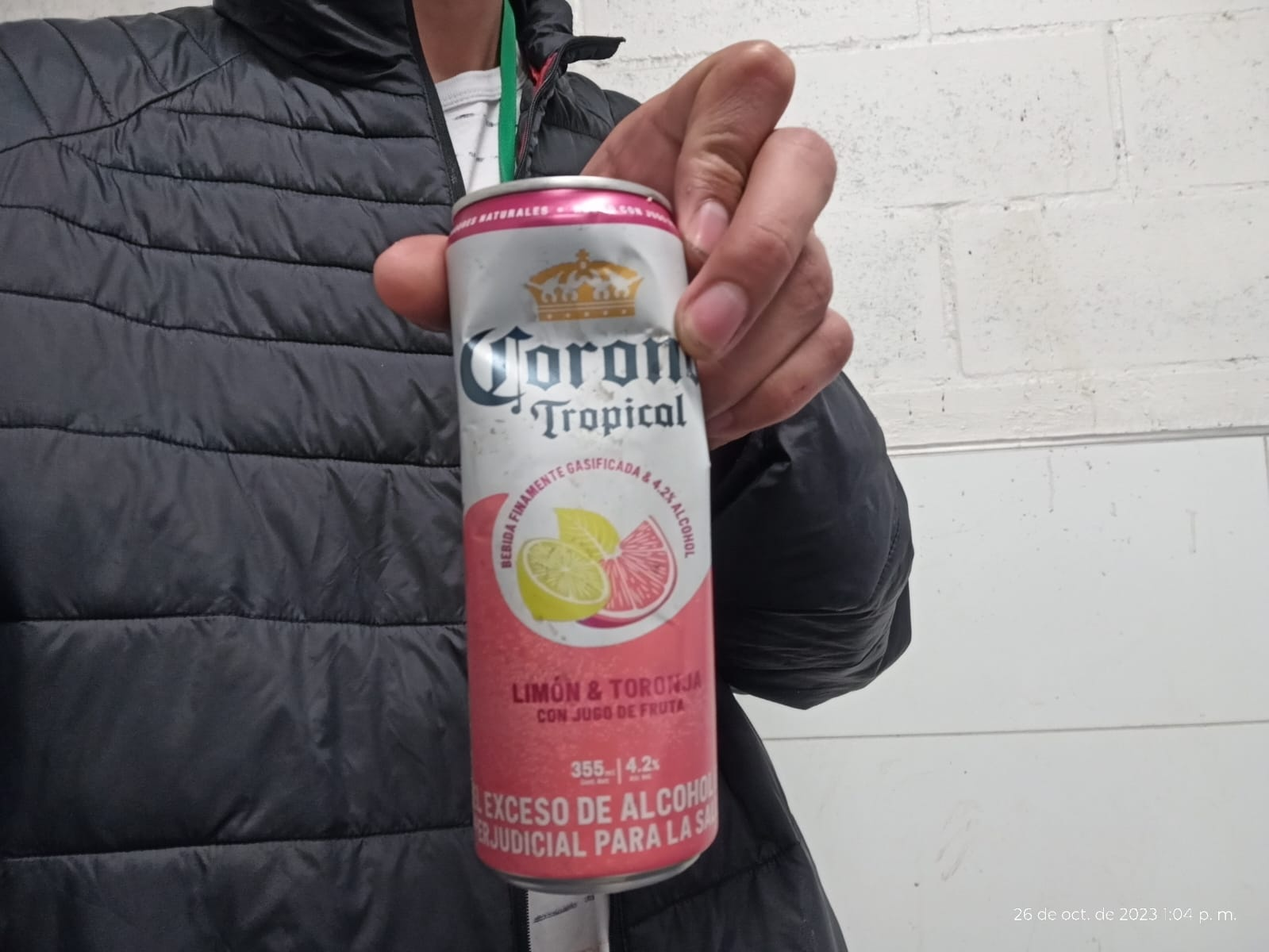Metal: (446, 175, 716, 896)
